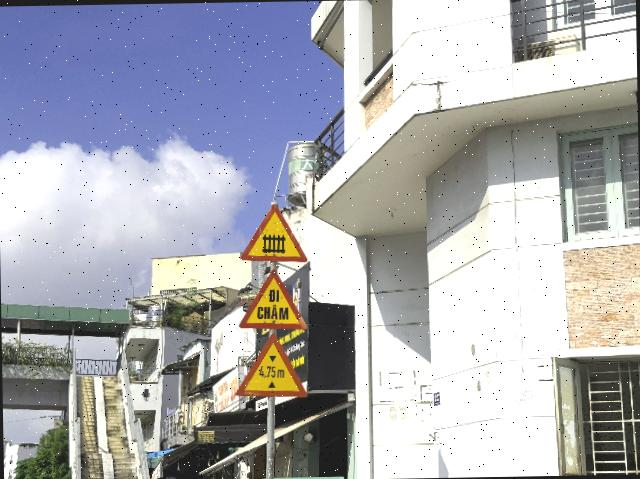chieu-cao-tinh-khong-thuc-te: (234, 332, 308, 398)
di-cham: (238, 267, 307, 331)
noi-giao-nhau-voi-duong-sat-co-rao-chan: (238, 202, 308, 263)
